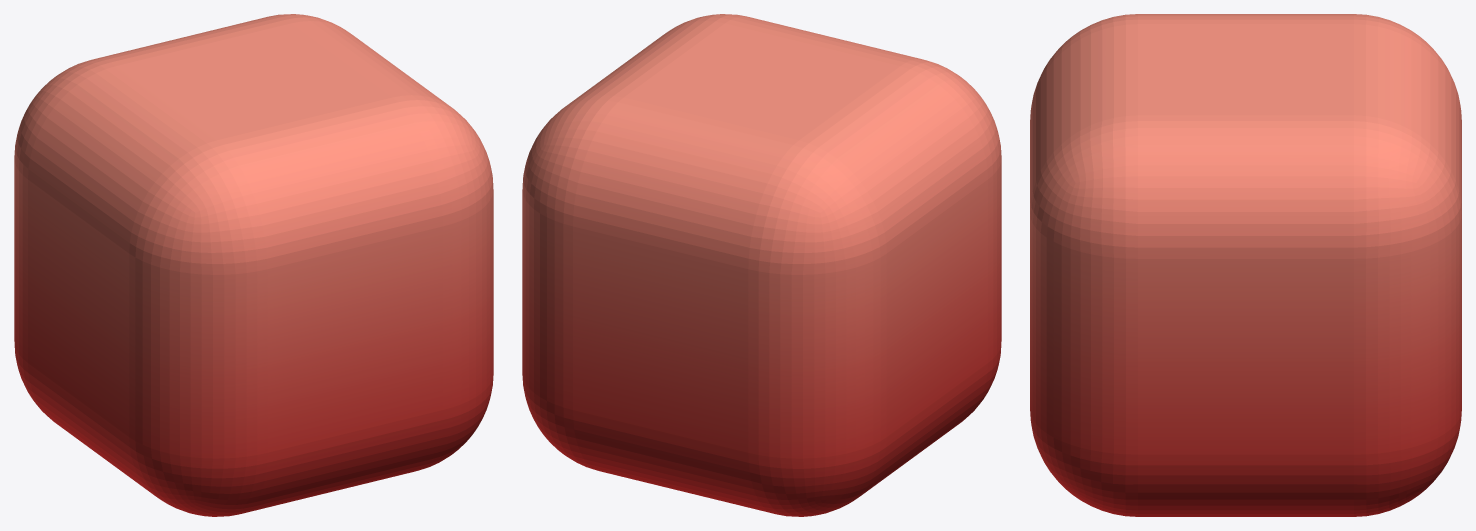
Rendered from bBoxy.glb.
3 views of the same model, side by side, from view 1: azimuth 30°, elevation 25°; view 2: azimuth 150°, elevation 25°; view 3: azimuth 270°, elevation 25° (orthographic). The views are drawn at different scales.
Visible parts, largest first — view 1: Cube; view 2: Cube; view 3: Cube.
Part boxes in pixels (bbox=[...]): Cube: bbox=[14, 14, 493, 516]; Cube: bbox=[522, 14, 1001, 516]; Cube: bbox=[1030, 14, 1461, 516].
Bounding box in the file's own units: 1 × 1 × 1.
Materials: 1 (1 with a texture image).
